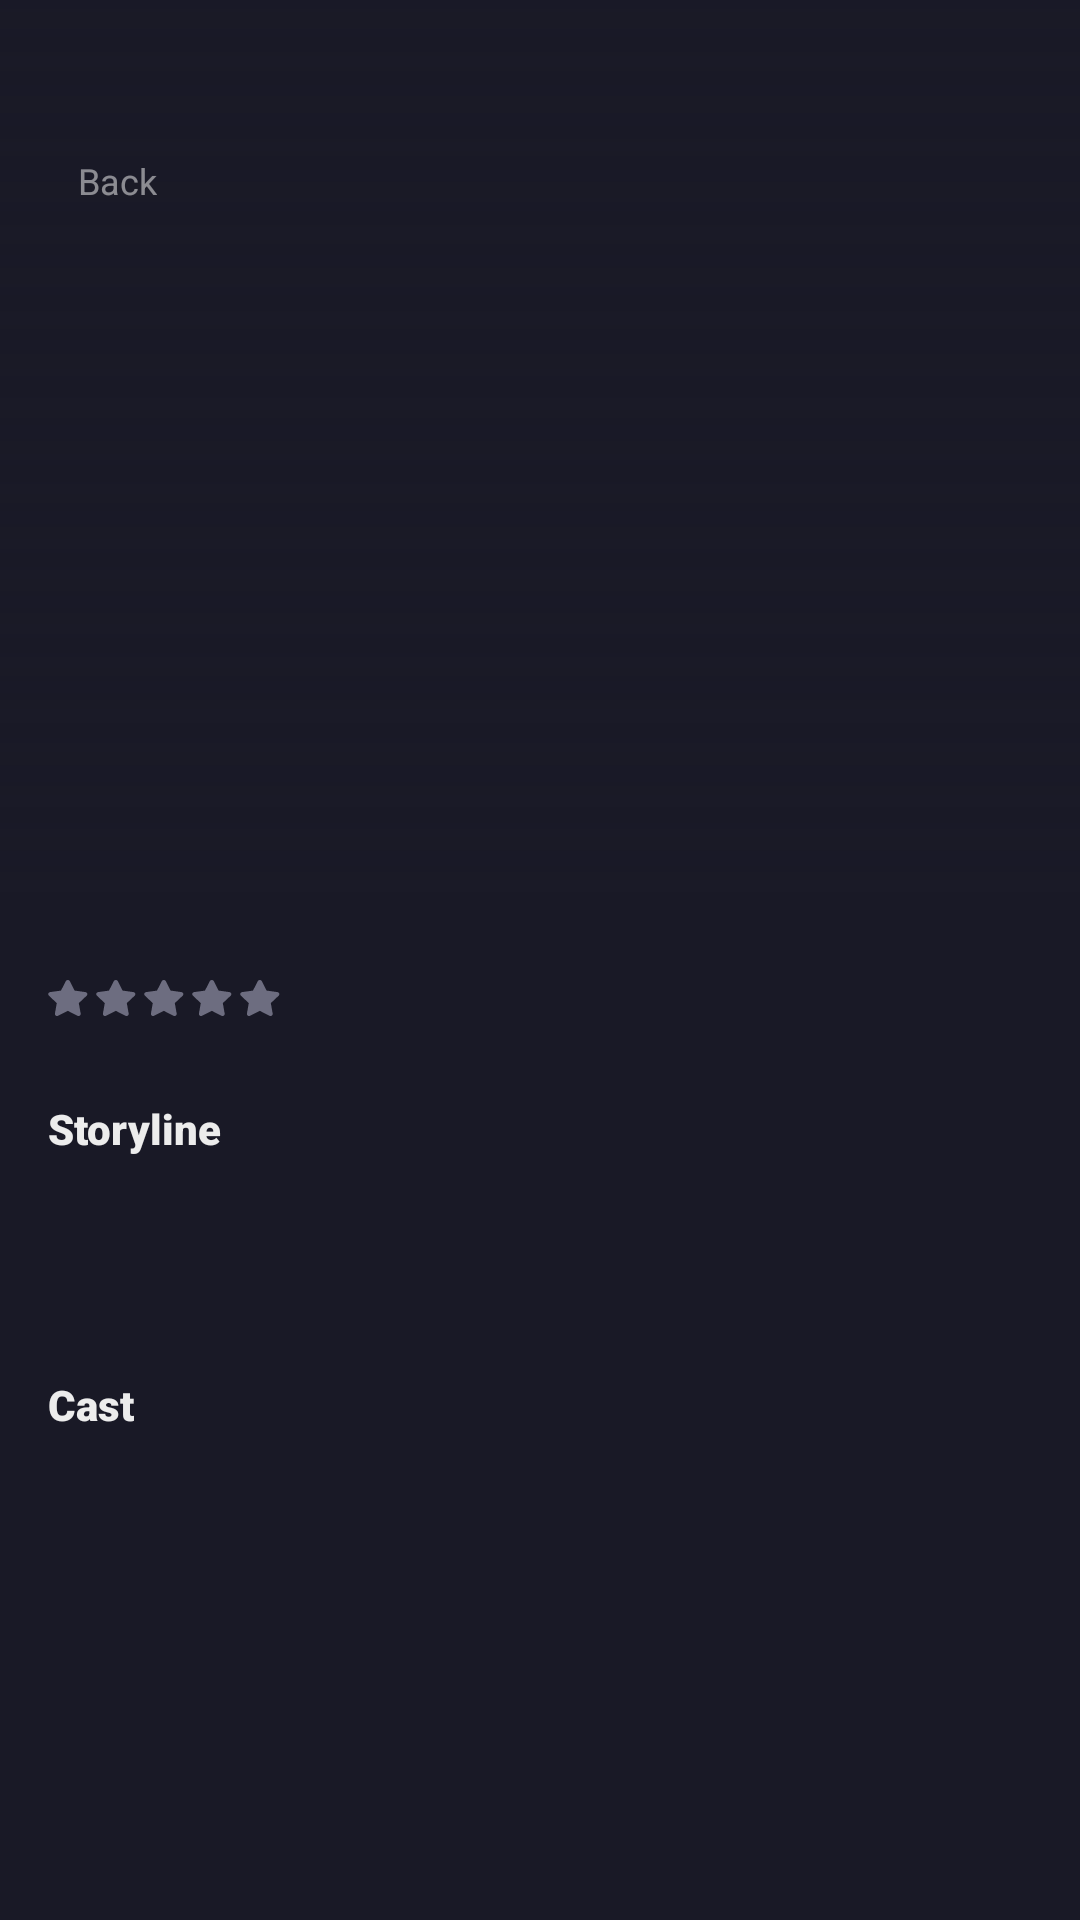

Icon click points for this 1080 x 1920 phone screenshot, format (x=x, y=y):
star: (x=67, y=998), (x=115, y=998), (x=163, y=998), (x=211, y=998), (x=259, y=998)
